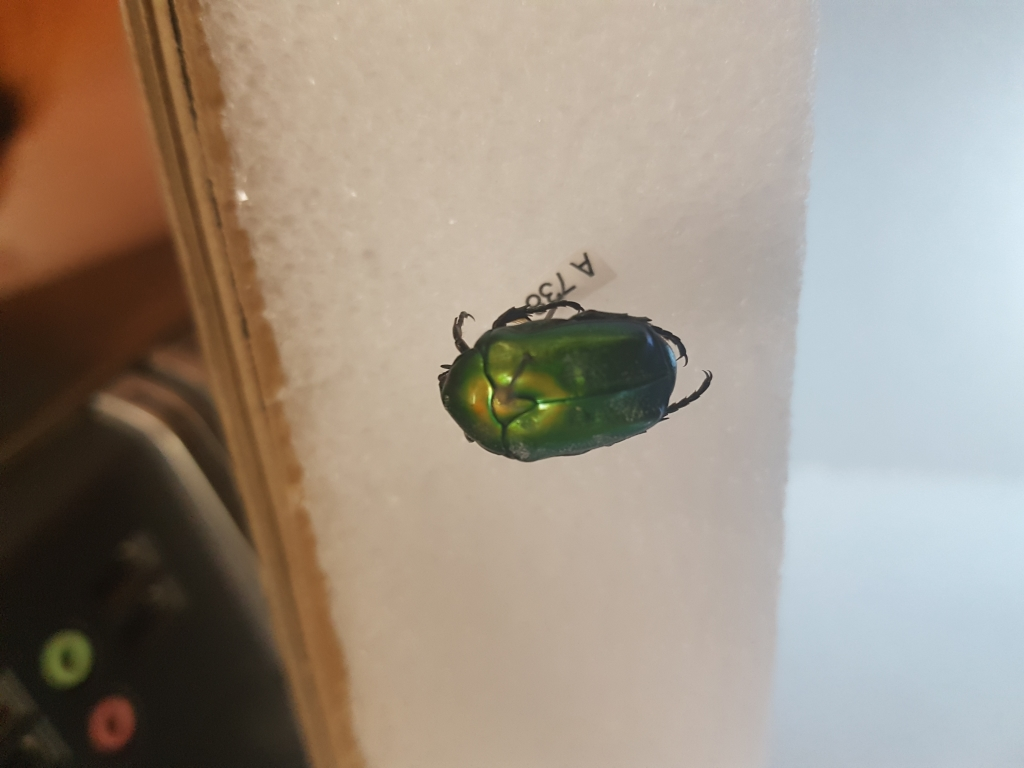Protaetia_cuprea_ignicollis: (425, 272, 739, 483)
